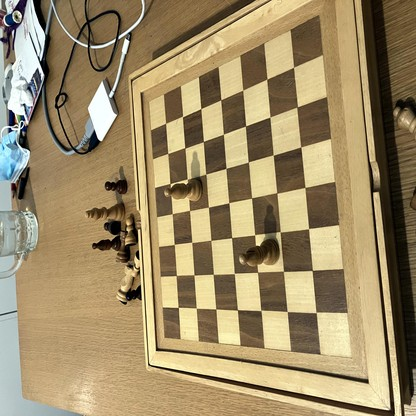bishop_black: (92, 239, 122, 251)
bishop_white: (239, 240, 280, 267), (163, 179, 202, 202)
king_white: (85, 203, 125, 219)
pawn_black: (106, 180, 128, 194), (104, 222, 120, 234)
pawn_white: (124, 215, 135, 245), (132, 254, 141, 276)
